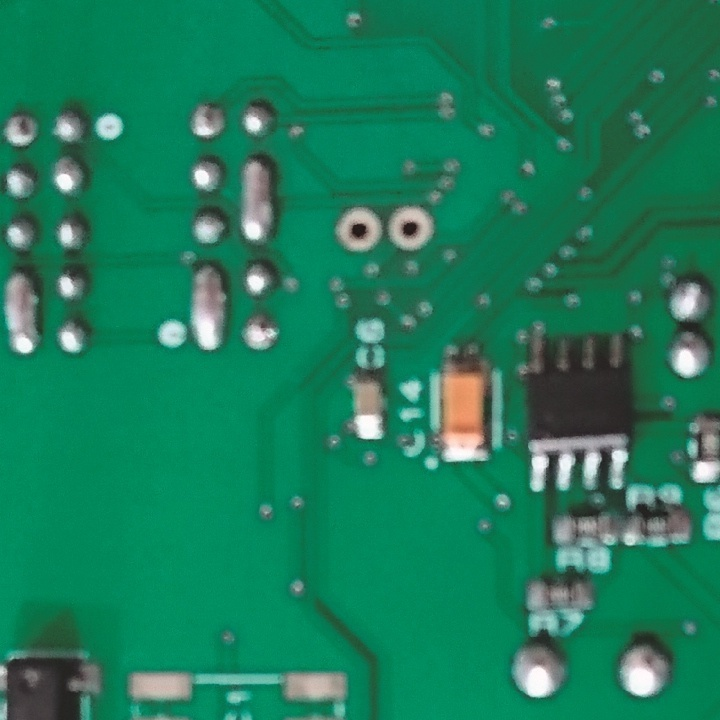F: (384, 201, 435, 256), (332, 204, 383, 254), (1, 110, 44, 150), (190, 102, 229, 146), (241, 312, 283, 352)
P: (239, 153, 281, 247), (2, 271, 45, 358), (188, 263, 227, 353)
